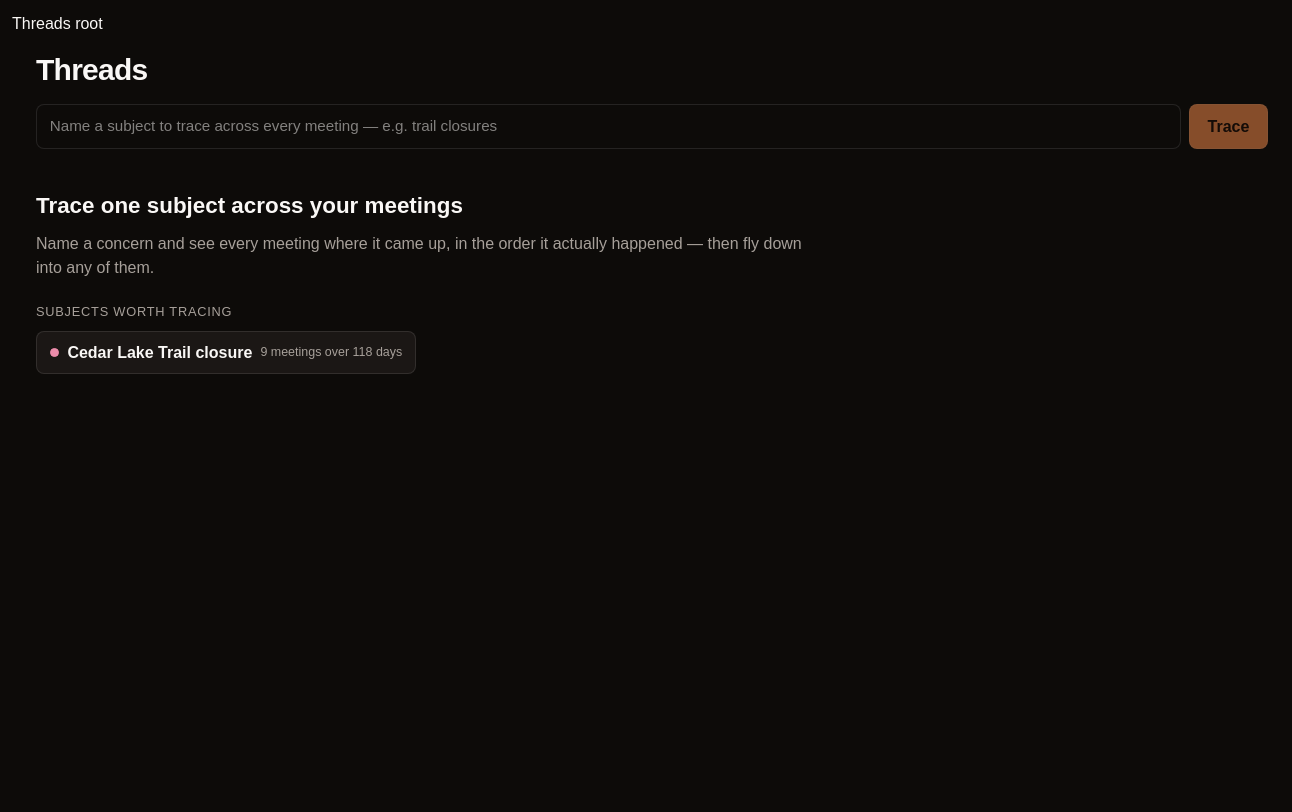
Test: the two ways in › states in words that an exhaustive trace is capped per meeting
The width and height of the screenshot is (1292, 812).
Click the button "Cedar Lake Trail closure 9 meetings over 118 days".
click(226, 353)  # box [36, 331, 416, 374]
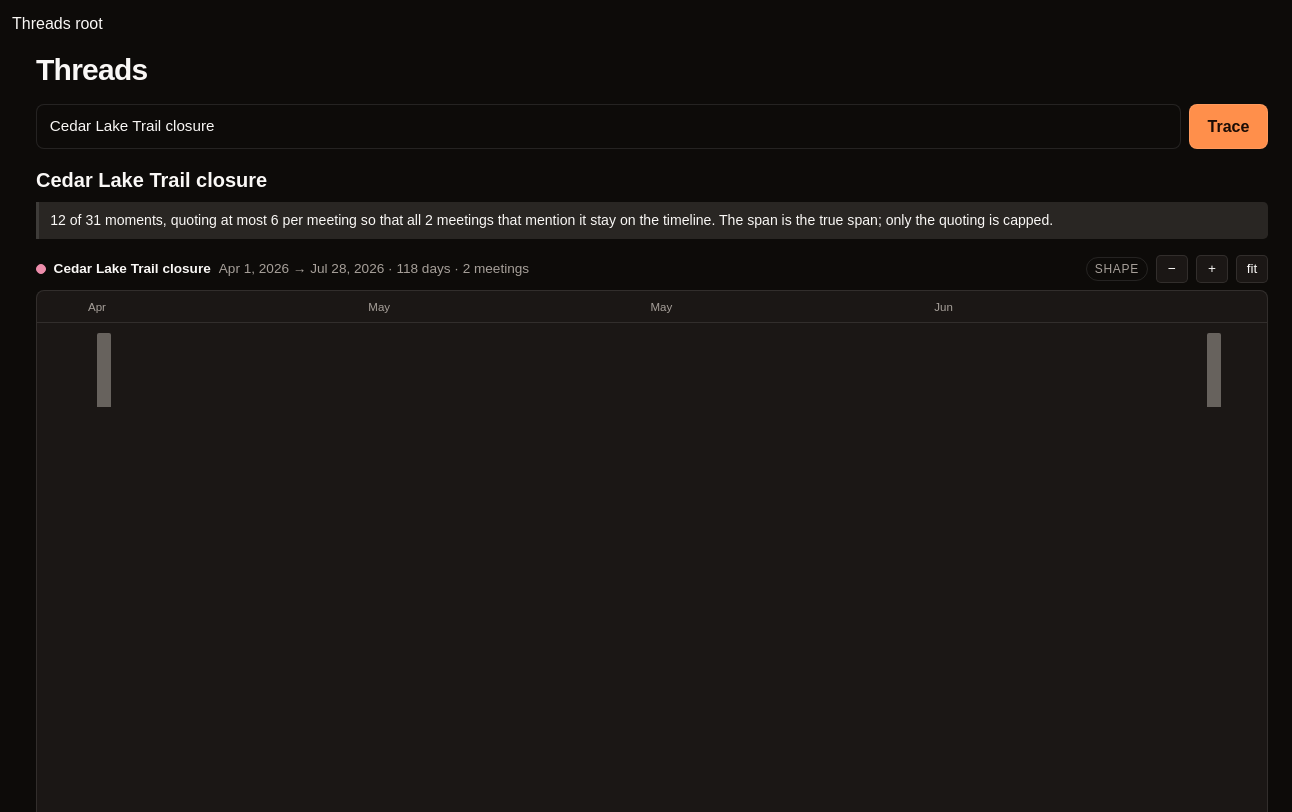
Check: the text "12 of 31 moments" shows "all 2 meetings that mention it stay on the timeline", box [50, 212, 1053, 228]
